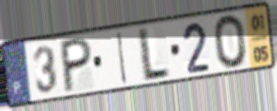2: (180, 18, 214, 78)
3: (31, 44, 59, 96)
I: (116, 30, 129, 87)
L: (138, 25, 172, 84)
O: (212, 12, 250, 70)
P: (60, 35, 93, 96)
